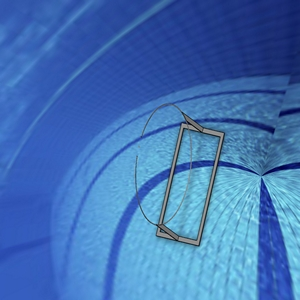circle: (131, 101, 226, 249)
